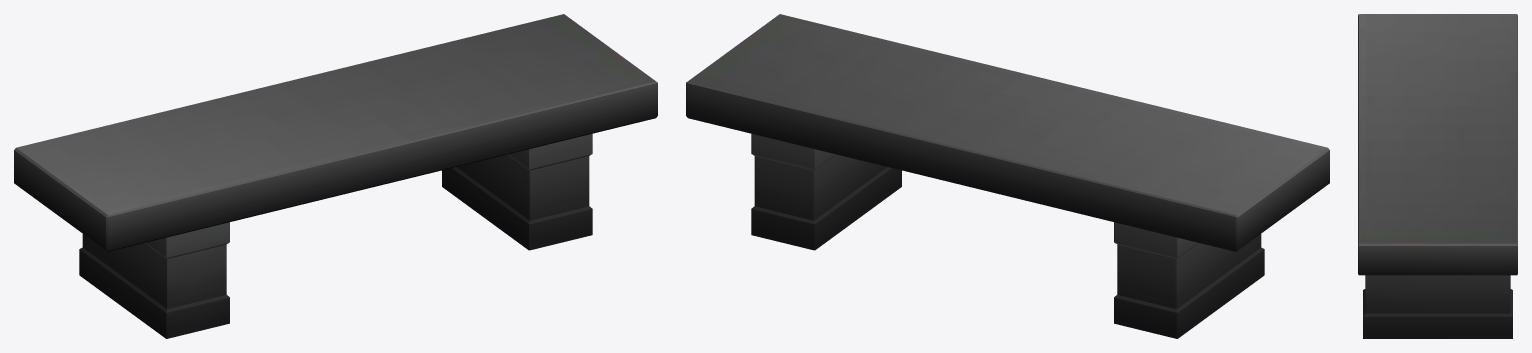
3 views of the same model, side by side, from view 1: azimuth 30°, elevation 25°; view 2: azimuth 150°, elevation 25°; view 3: azimuth 270°, elevation 25° (orthographic). The views are drawn at different scales.
Visible parts, largest first — view 1: BenchMarble; view 2: BenchMarble; view 3: BenchMarble.
Part boxes in pixels (bbox=[...]): BenchMarble: bbox=[14, 14, 657, 338]; BenchMarble: bbox=[686, 14, 1329, 338]; BenchMarble: bbox=[1358, 14, 1517, 338].
Size of what is drawn, in the model's own units: 1.84 by 0.448 by 0.5374.
Materials: 1 (1 with a texture image).
